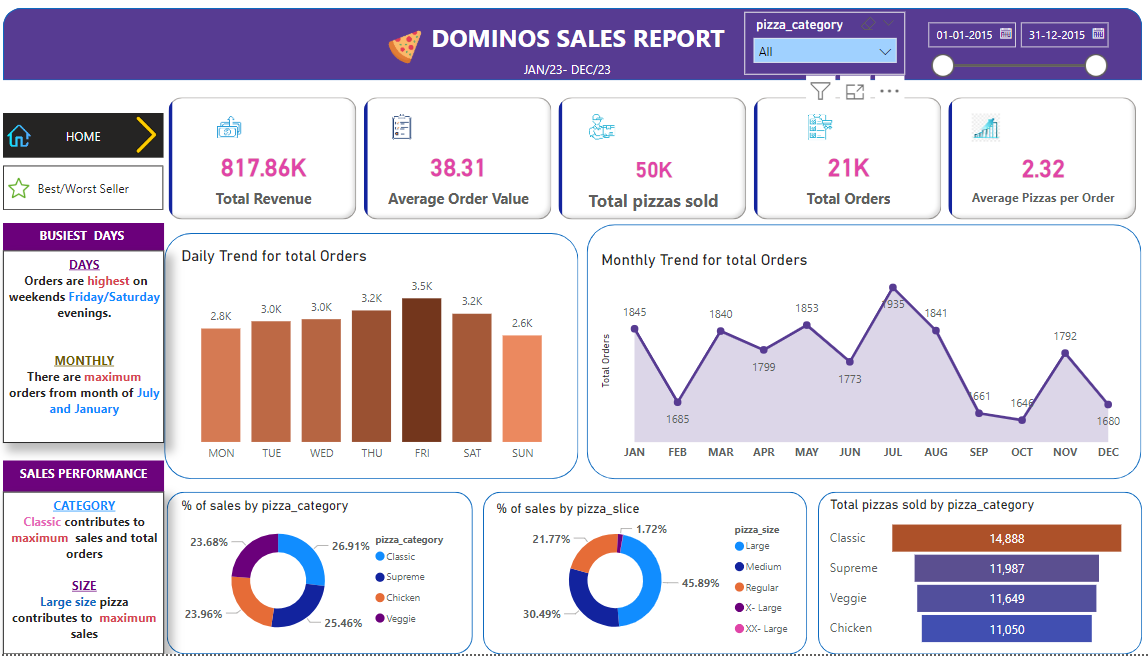

Layout of this report page (visuals, bound fields, positions):
{"tool":"powerbi","page":{"name":"HOME","canvas":[1280,720],"ordinal":0},"visuals":[{"type":"cardVisual","fields":{"Data":["Key Measures.Total Revenue","Key Measures.Average Order Value","Key Measures.Total pizzas sold","Key Measures.Total Orders","Key Measures.Average Pizzas per Order"]},"box":[193.1,103.9,1073.3,144.2],"z":0},{"type":"shape","box":[15.9,11,1250.5,79.5],"z":1000},{"type":"textbox","box":[468.2,20.8,359.4,57.5],"z":2000},{"type":"textbox","box":[583.1,64.8,283.6,39.1],"z":3000},{"type":"image","box":[257.9,30.6,399.7,47.7],"z":4000},{"type":"clusteredColumnChart","title":"Daily Trend for total Orders","fields":{"Category":["pizza_sales.Order Day"],"Y":["Key Measures.Total Orders"]},"box":[206.6,272.6,429.1,244.5],"z":5000},{"type":"shape","box":[657.7,248.1,608.8,279.9],"z":6000},{"type":"areaChart","title":"Monthly Trend for total Orders","fields":{"Category":["pizza_sales.Order Month"],"Y":["Key Measures.Total Orders"]},"box":[668.7,277.5,585.5,239.6],"z":7000},{"type":"shape","box":[196.1,541.6,335.9,178.2],"z":8000},{"type":"shape","box":[542.8,541.5,355.7,178.5],"z":9000},{"type":"shape","box":[910.7,541.5,355.7,178.5],"z":10000},{"type":"donutChart","title":"% of sales by pizza_category","fields":{"Category":["pizza_sales.pizza_category"],"Y":["Key Measures.Total Revenue"]},"box":[207,548.4,314,164.5],"z":11000},{"type":"donutChart","title":"% of sales by pizza_slice","fields":{"Y":["Key Measures.Total Revenue"],"Category":["pizza_sales.pizza_size"]},"box":[552.5,551.3,338.6,158.9],"z":12000},{"type":"funnel","fields":{"Category":["pizza_sales.pizza_category"],"Y":["Key Measures.Total pizzas sold"]},"box":[919.3,547.6,334.9,167.5],"z":13000},{"type":"shape","box":[193.1,257.9,454.7,270.2],"z":14000},{"type":"textbox","box":[16.5,246.8,176.9,30.2],"z":15000},{"type":"textbox","box":[16.5,277,176.9,211.1],"z":16000},{"type":"textbox","box":[16.5,507.3,176.9,34.3],"z":17000},{"type":"textbox","box":[16.5,541.6,176.9,178.2],"z":18000},{"type":"slicer","fields":{"Values":["pizza_sales.pizza_category"]},"box":[830,14.7,177.2,69.7],"z":19000},{"type":"slicer","fields":{"Values":["pizza_sales.order_date"]},"box":[1019.5,17.1,217.6,86.8],"z":20000},{"type":"pageNavigator","box":[16.5,126.1,176.9,49.4],"z":21000},{"type":"pageNavigator","box":[16.5,183.7,176.9,49.4],"z":22000},{"type":"image","box":[34.3,124.8,279.7,50.7],"z":23000},{"type":"image","box":[1.4,191.9,64.4,32.9],"z":24000},{"type":"image","box":[16.5,130.2,35.6,41.1],"z":25000}]}

Visuals, with their boxes in screenshot pixels (x1, y1, x2, y2):
cardVisual - Key Measures.Total Revenue x Key Measures.Average Order Value: crop(162, 89, 1146, 222)
shape: crop(0, 4, 1146, 77)
textbox: crop(414, 13, 744, 66)
textbox: crop(520, 53, 780, 89)
image: crop(222, 22, 588, 66)
"Daily Trend for total Orders" clusteredColumnChart: crop(174, 244, 568, 468)
shape: crop(588, 222, 1146, 478)
"Monthly Trend for total Orders" areaChart: crop(598, 248, 1135, 468)
shape: crop(165, 491, 473, 654)
shape: crop(483, 491, 809, 654)
shape: crop(820, 491, 1146, 654)
"% of sales by pizza_category" donutChart: crop(175, 497, 463, 648)
"% of sales by pizza_slice" donutChart: crop(492, 500, 802, 645)
funnel - pizza_sales.pizza_category x Key Measures.Total pizzas sold: crop(828, 496, 1135, 650)
shape: crop(162, 231, 579, 478)
textbox: crop(0, 220, 162, 248)
textbox: crop(0, 248, 162, 442)
textbox: crop(0, 459, 162, 491)
textbox: crop(0, 491, 162, 654)
slicer - pizza_sales.pizza_category: crop(746, 7, 909, 71)
slicer - pizza_sales.order_date: crop(920, 10, 1119, 89)
pageNavigator: crop(0, 110, 162, 155)
pageNavigator: crop(0, 162, 162, 208)
image: crop(17, 108, 273, 155)
image: crop(0, 170, 45, 200)
image: crop(0, 113, 33, 151)
